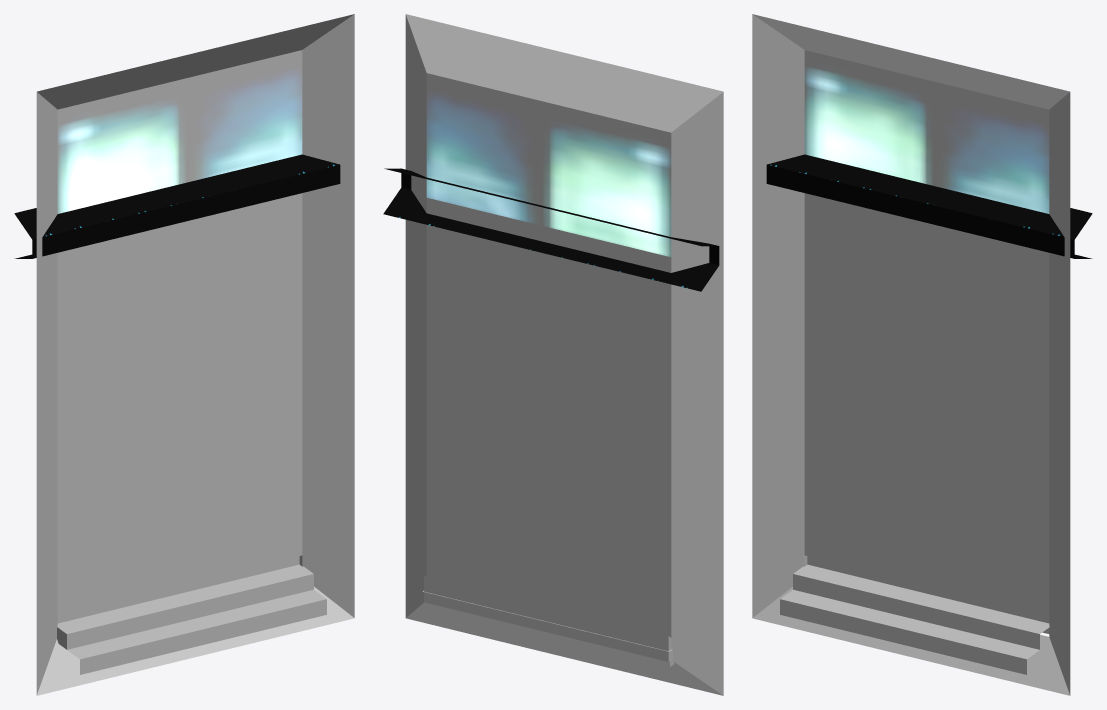
The model's file is Wall_Module_01_Art.fbx.
3 renders of one model, left to right at view 1: azimuth 30°, elevation 25°; view 2: azimuth 150°, elevation 25°; view 3: azimuth 330°, elevation 25°, orthographic.
Parts seen in each view (by area): view 1: Wall_Module_01; view 2: Wall_Module_01; view 3: Wall_Module_01.
Part boxes in pixels (x1=…): Wall_Module_01: x1=14, y1=14, x2=354, y2=695; Wall_Module_01: x1=383, y1=14, x2=723, y2=695; Wall_Module_01: x1=752, y1=14, x2=1092, y2=695.
Bounding box in the file's own units: 2.27 × 4.13 × 0.3728.
